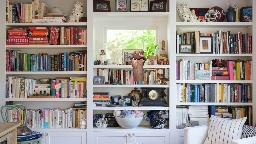Pugno: (128, 49, 147, 65)
